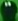black: (0, 0, 18, 21)
